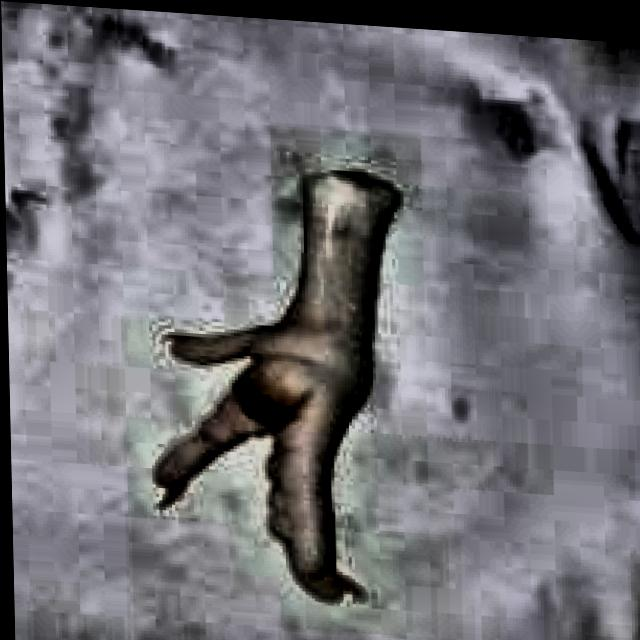Bumble foot: (140, 152, 409, 607), (236, 382, 271, 422)
